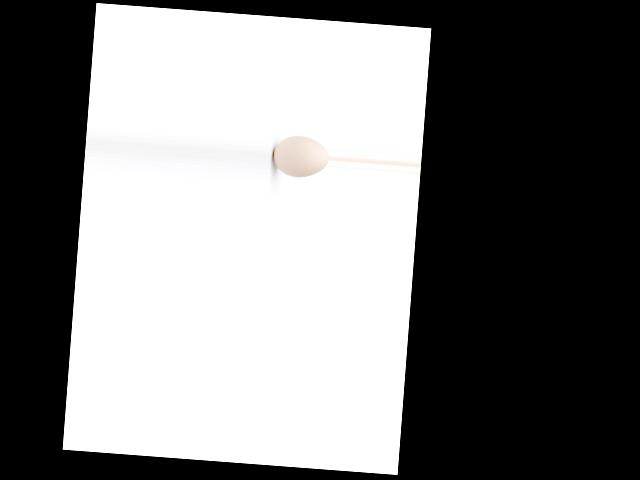egg: (271, 133, 329, 179)
